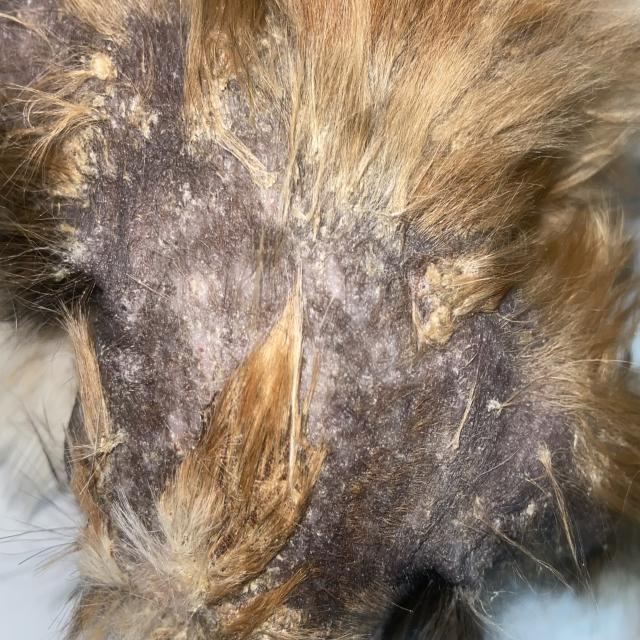demodicosis: (71, 96, 306, 391), (319, 233, 469, 592), (481, 360, 572, 505)
